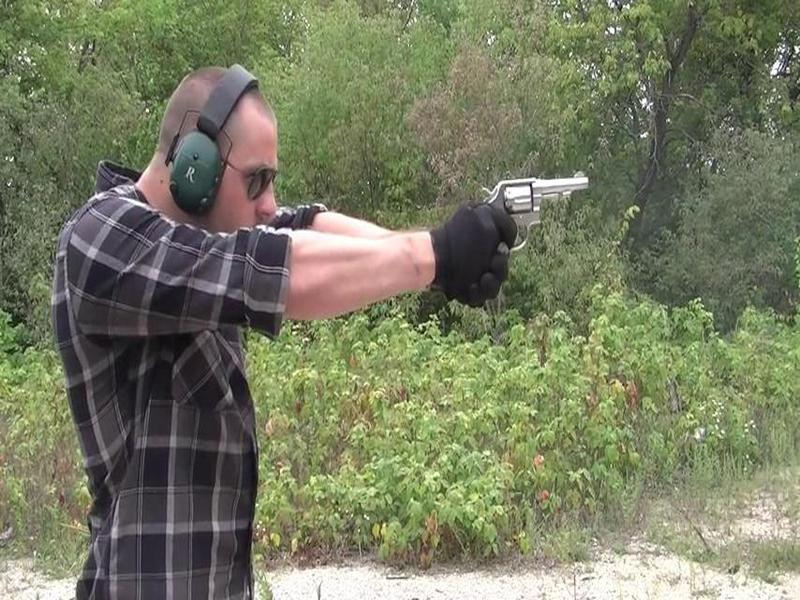Revolver: (475, 155, 598, 245)
